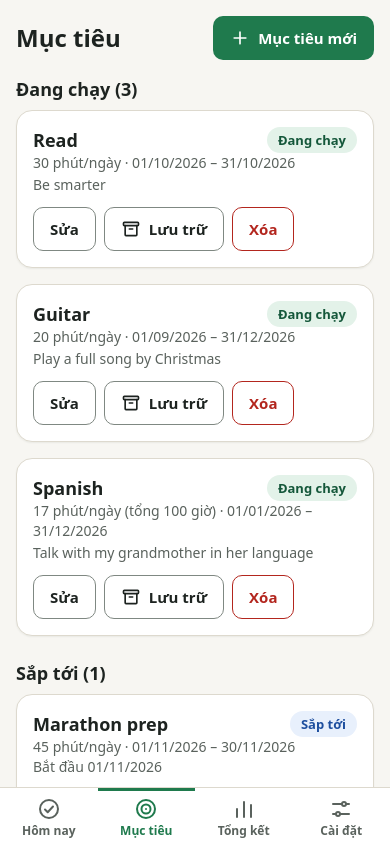
it: Goals (M1-AC5, M1-AC9, M1-AC18) › vi: delete dialog with a running timer has no English leaks
Step 1. Click the button "Xóa" below "Read" → (263, 229), box [232, 207, 294, 251]
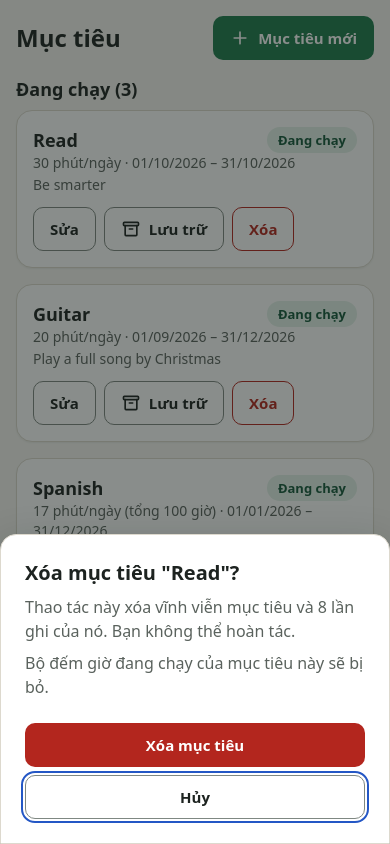
Now the text "Bộ đếm giờ đang chạy của mục tiêu này sẽ bị bỏ." is shown, box [25, 651, 365, 699]
